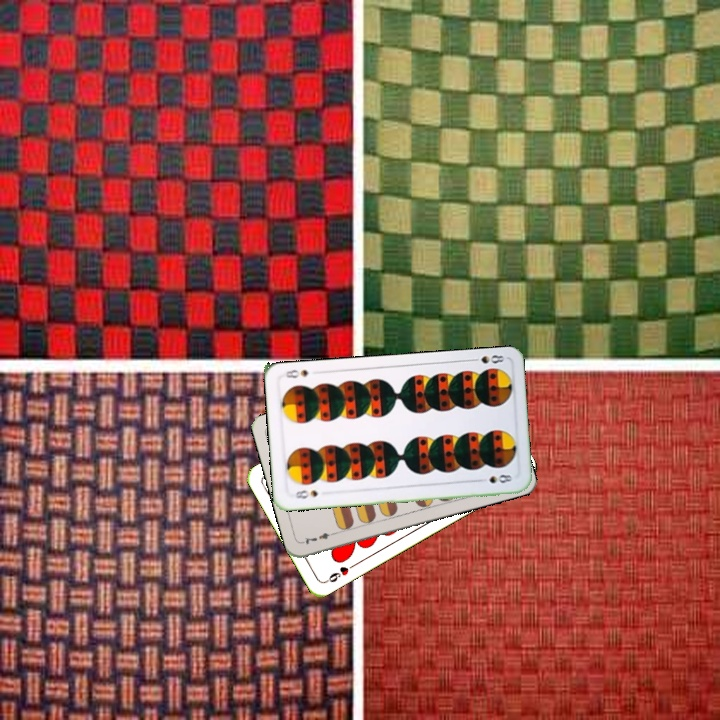E7: (299, 528, 339, 547)
H9: (321, 559, 358, 585)
S8: (467, 351, 507, 366), (291, 486, 320, 501)
